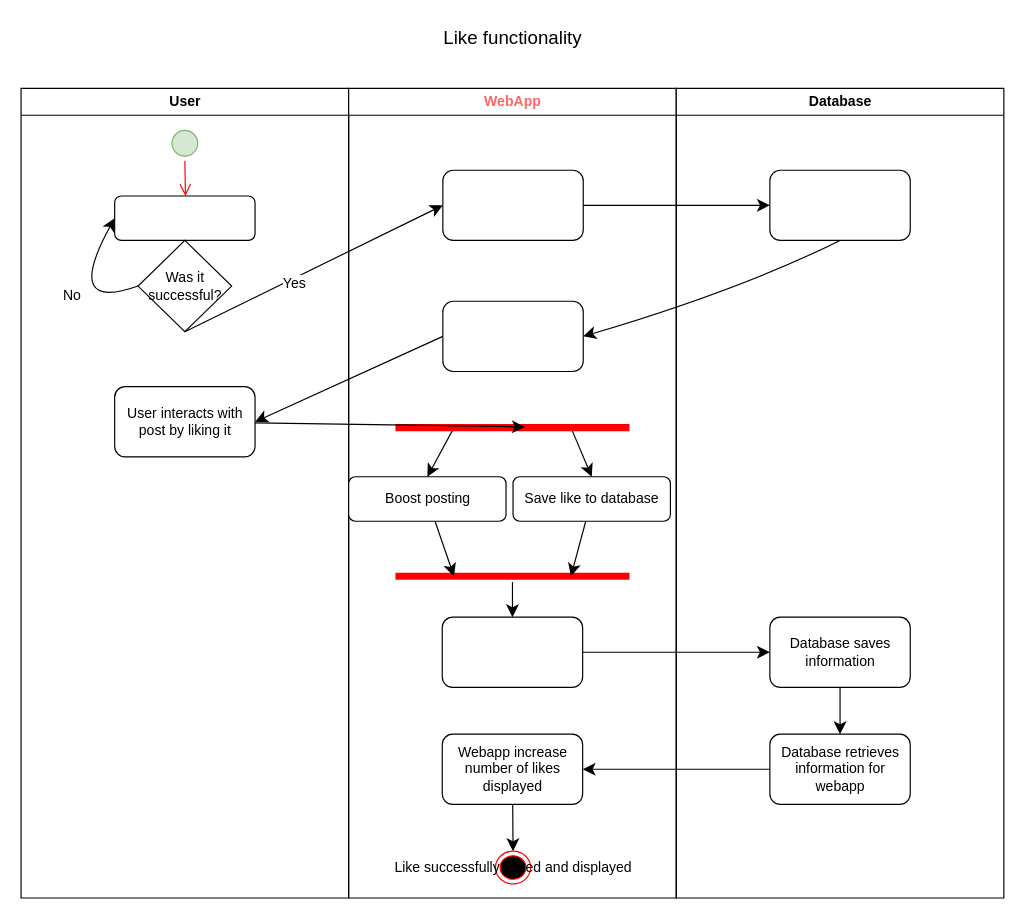
This 1024x918 diagram has some shape labels left out. Each missing label, with the centre of its shape:
"Application retrieves information from database" goes at (512,204).
"Database fetches information requested by webapp" goes at (839,204).
"Send updates to database" goes at (512,651).
"User authenticates" goes at (184,217).
"User enters webapp" goes at (184,143).
"Webapp displays information that was retrieved" goes at (512,335).
